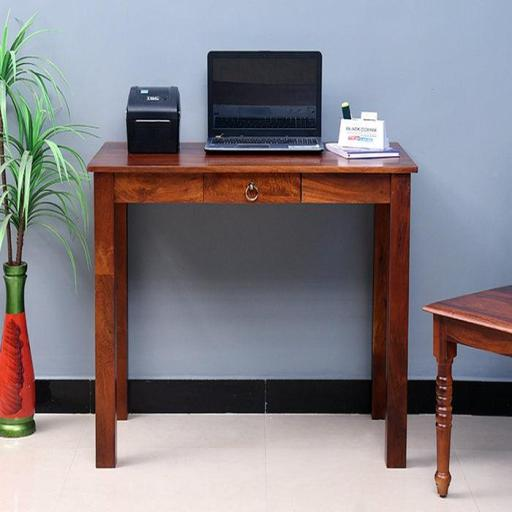table: (87, 136, 418, 472)
